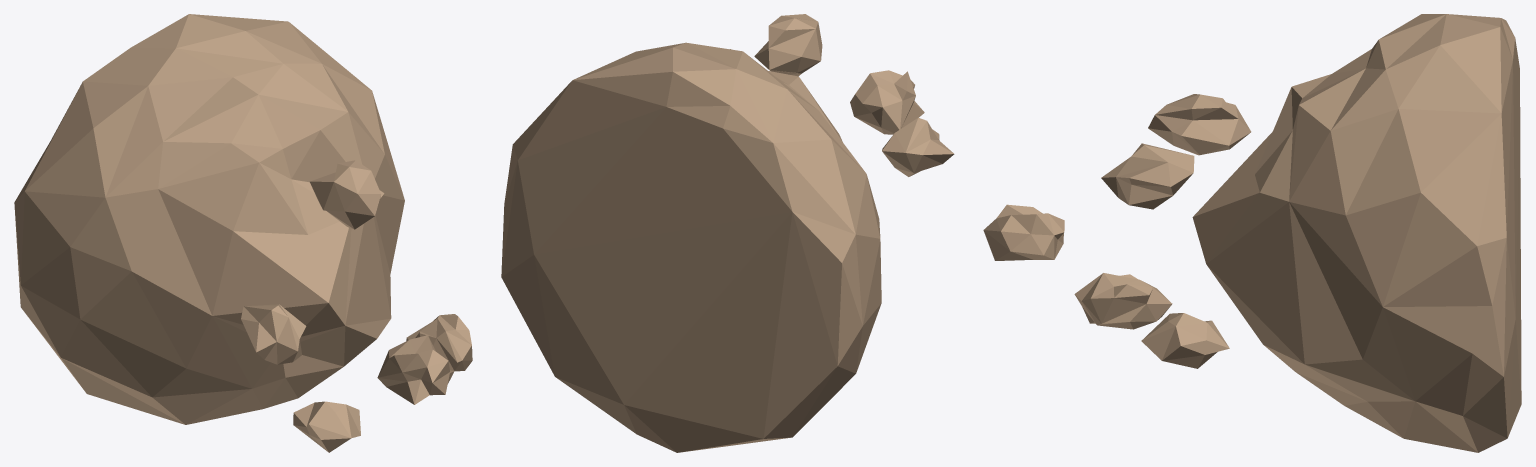
File: AstroidTile_6.fbx
3 views of the same model, side by side, from view 1: azimuth 30°, elevation 25°; view 2: azimuth 150°, elevation 25°; view 3: azimuth 270°, elevation 25° (orthographic). The views are drawn at different scales.
Visible parts, largest first — view 1: Astroid\.005; view 2: Astroid\.005; view 3: Astroid\.005.
Part boxes in pixels (<box>): Astroid\.005: <box>14,14,472,452</box>; Astroid\.005: <box>501,14,954,452</box>; Astroid\.005: <box>983,14,1521,452</box>.
Bounding box in the file's own units: 0.9579 × 0.9659 × 1.17.
